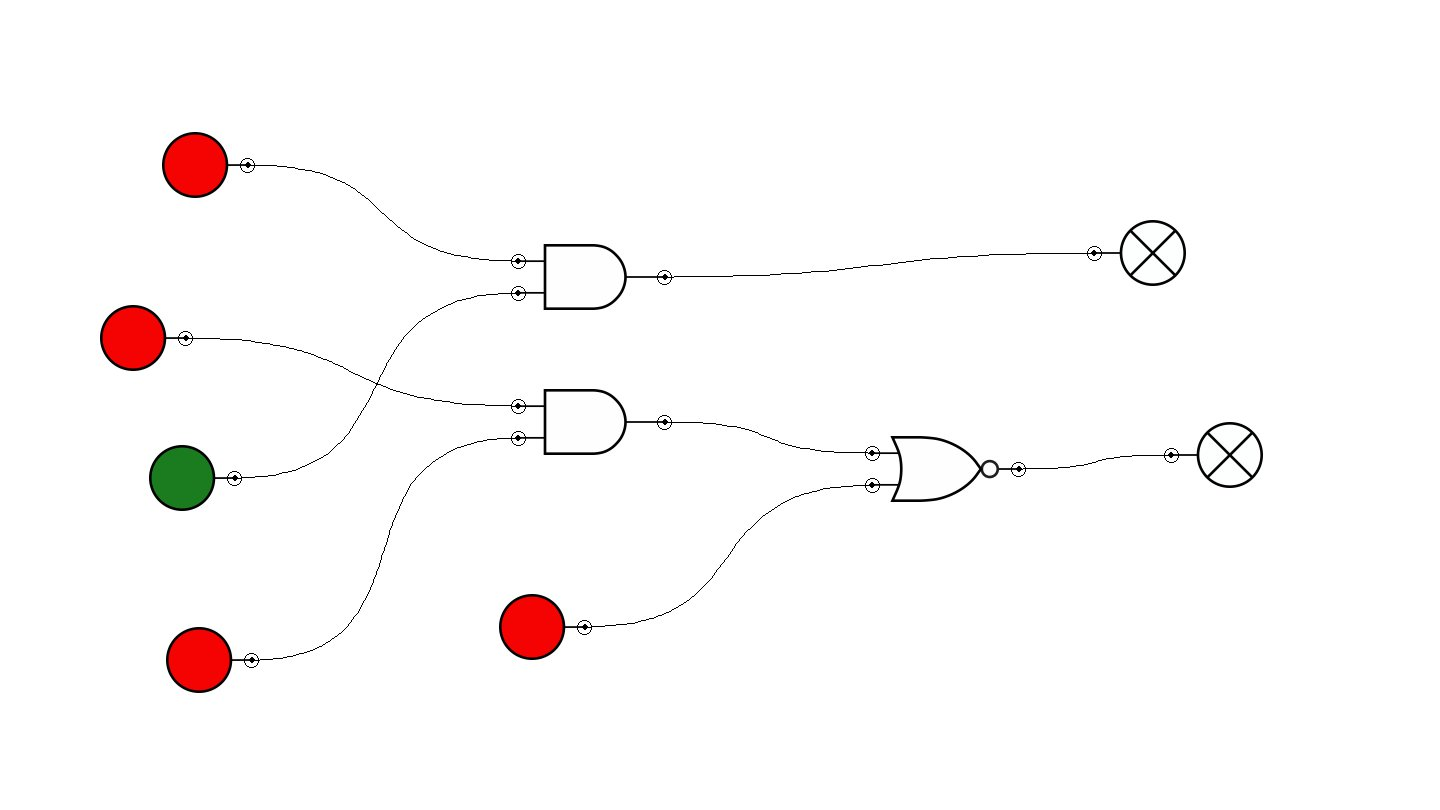and: (511, 389, 672, 455), (511, 244, 672, 310)
bulb: (1087, 220, 1186, 286), (1164, 422, 1263, 488)
nor: (865, 436, 1026, 502)
switch_False: (499, 594, 592, 660), (162, 132, 255, 198), (166, 627, 259, 693), (100, 305, 193, 371)
switch_True: (149, 445, 242, 511)
